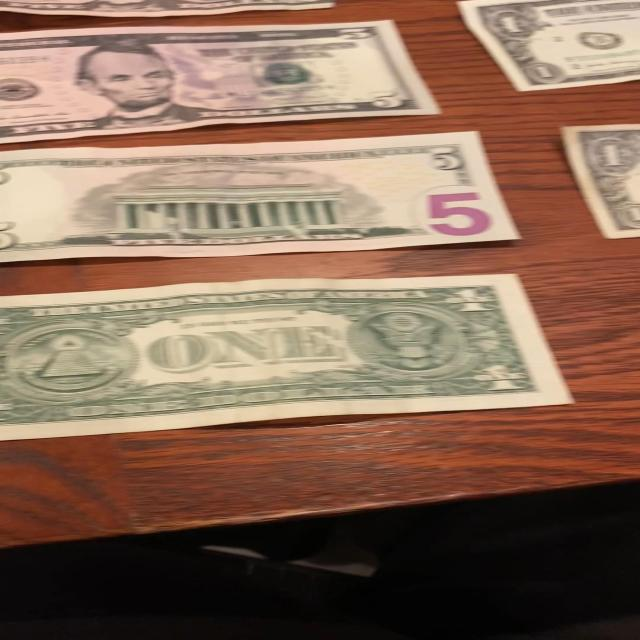1-Back: (0, 274, 574, 443)
1-Front: (452, 0, 639, 93)
5-Back: (1, 128, 522, 264)
5-Front: (0, 18, 439, 143)
